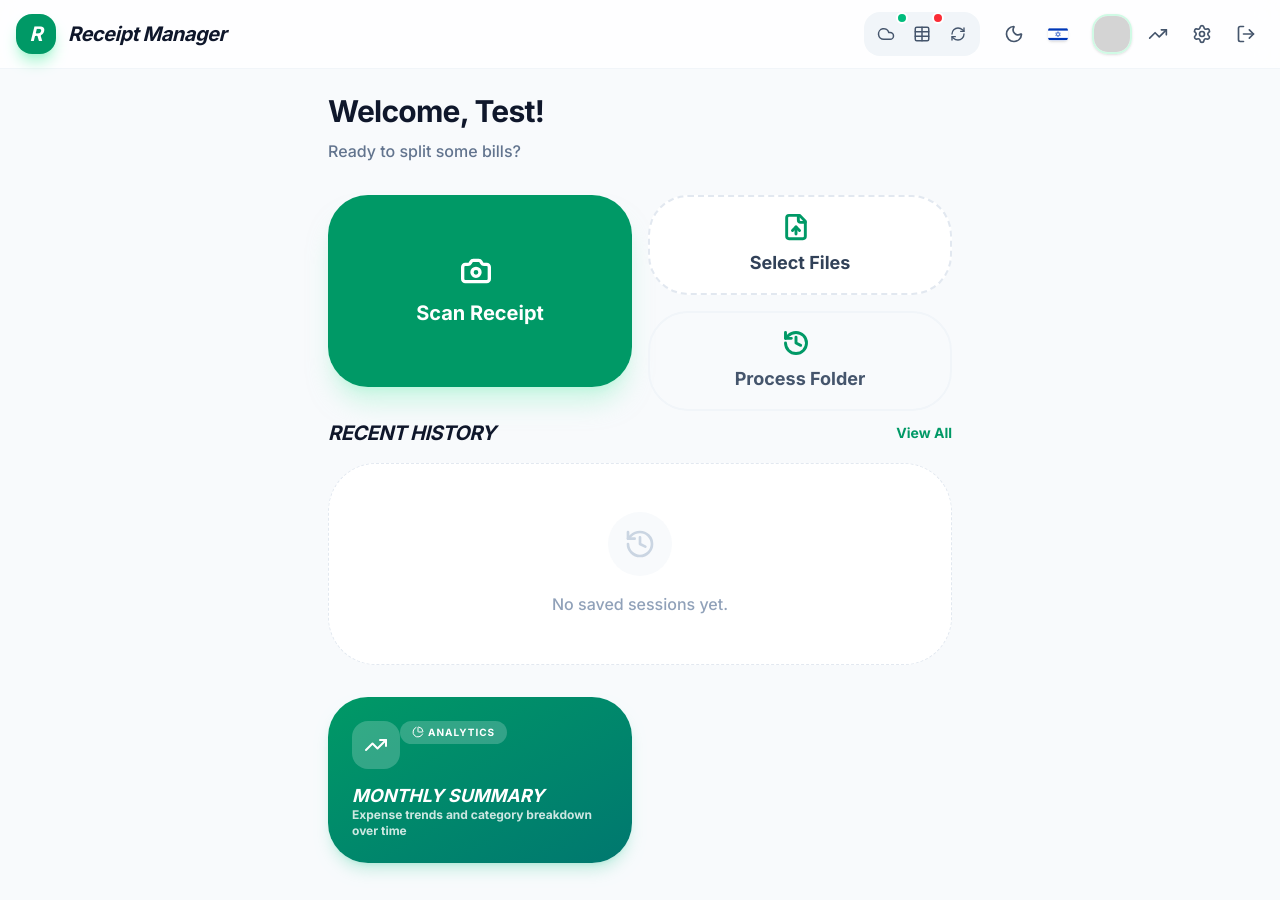
Test: A Google access token that outlives 55 minutes while App is open › is not used to connect a spreadsheet, and the header asks to connect Drive again
The image size is (1280, 900).
Step 1. Click the button titled "Connect Google Sheets" → (922, 34), box [904,16,940,52]
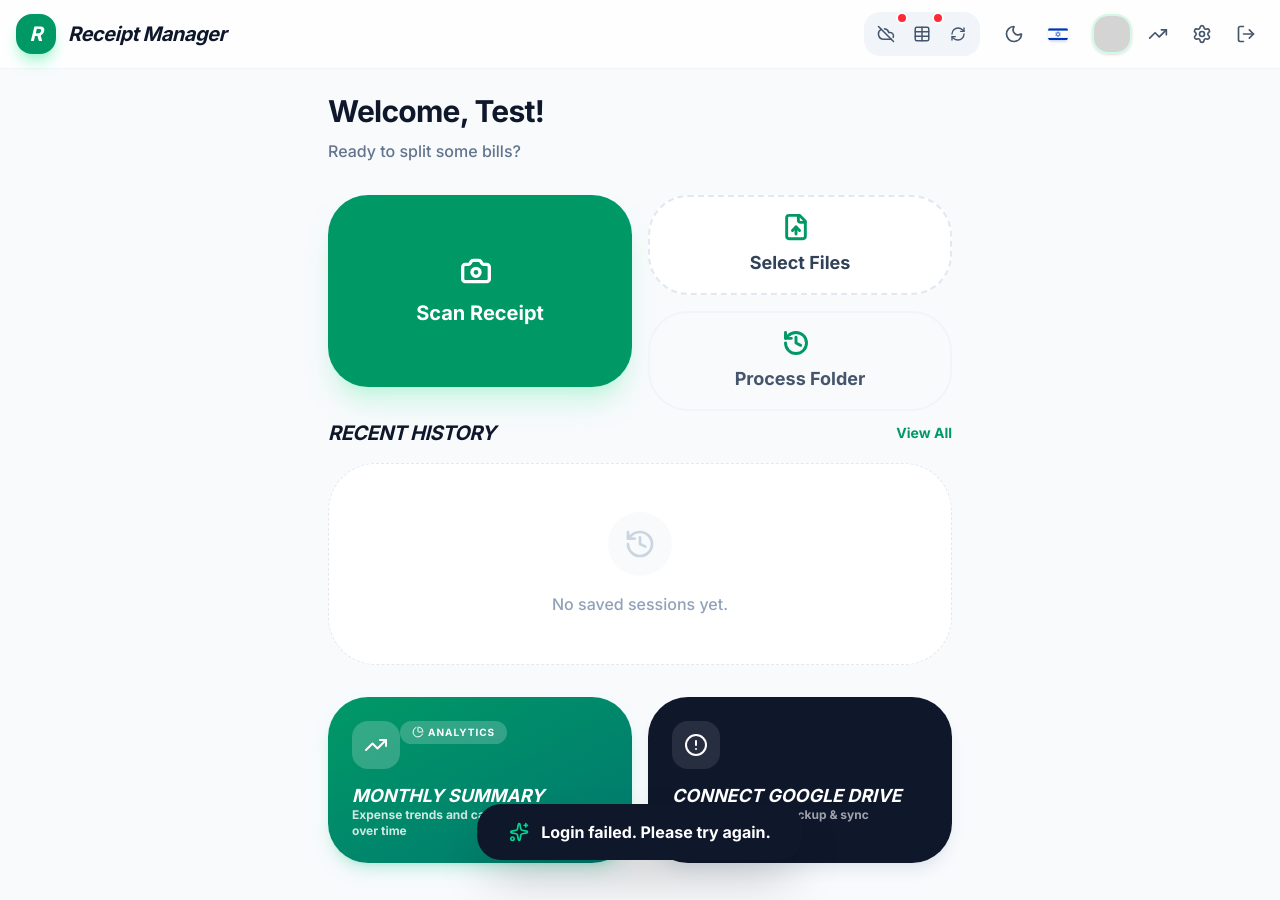
Expected: the button titled "Connect Google Drive" is shown, [868,16,904,52]
